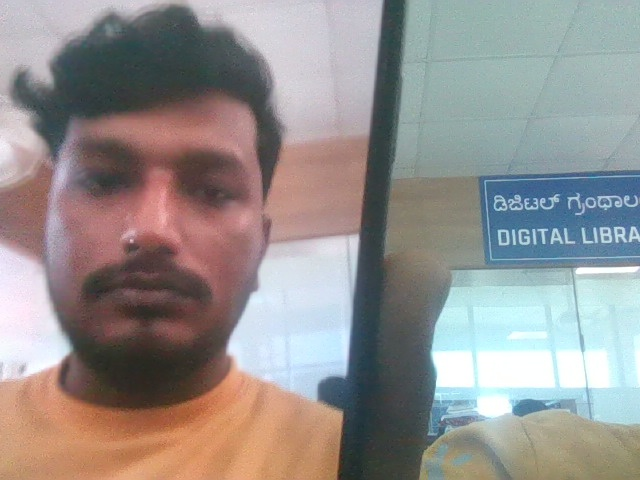fake: (3, 0, 303, 425)
